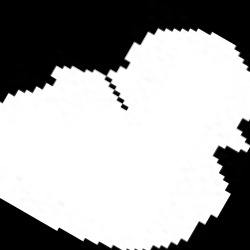spot: (2, 28, 248, 249)
